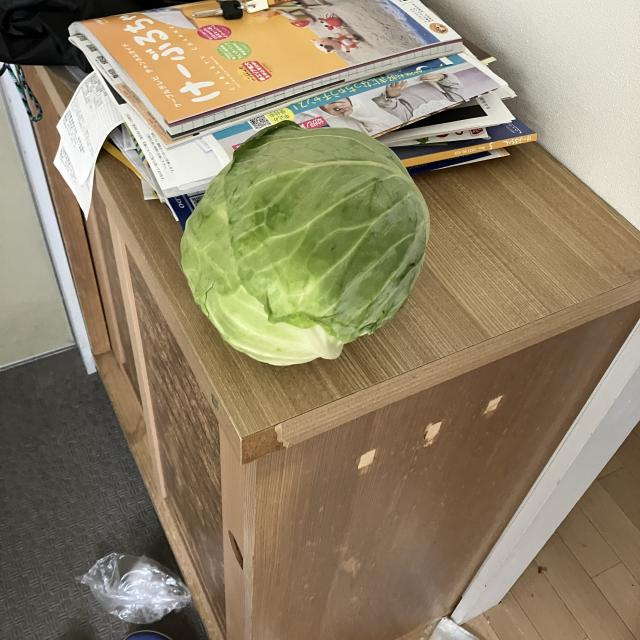cabbage: (177, 116, 434, 370)
